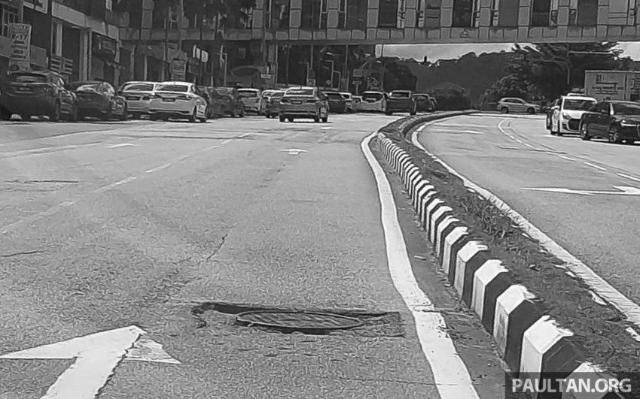Pothole: (196, 305, 402, 339)
